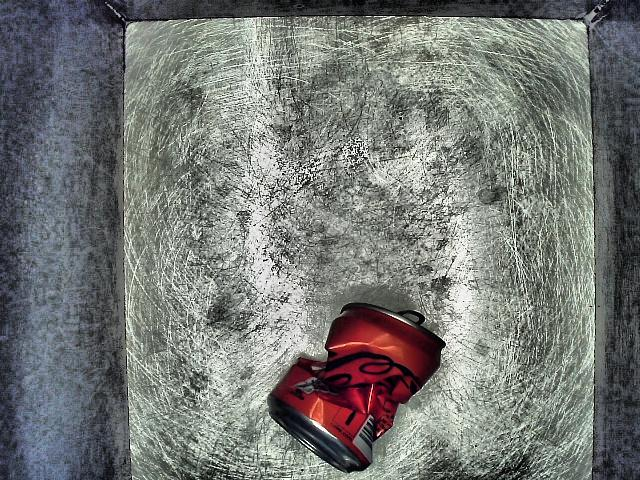Bottles: (255, 283, 469, 474)
